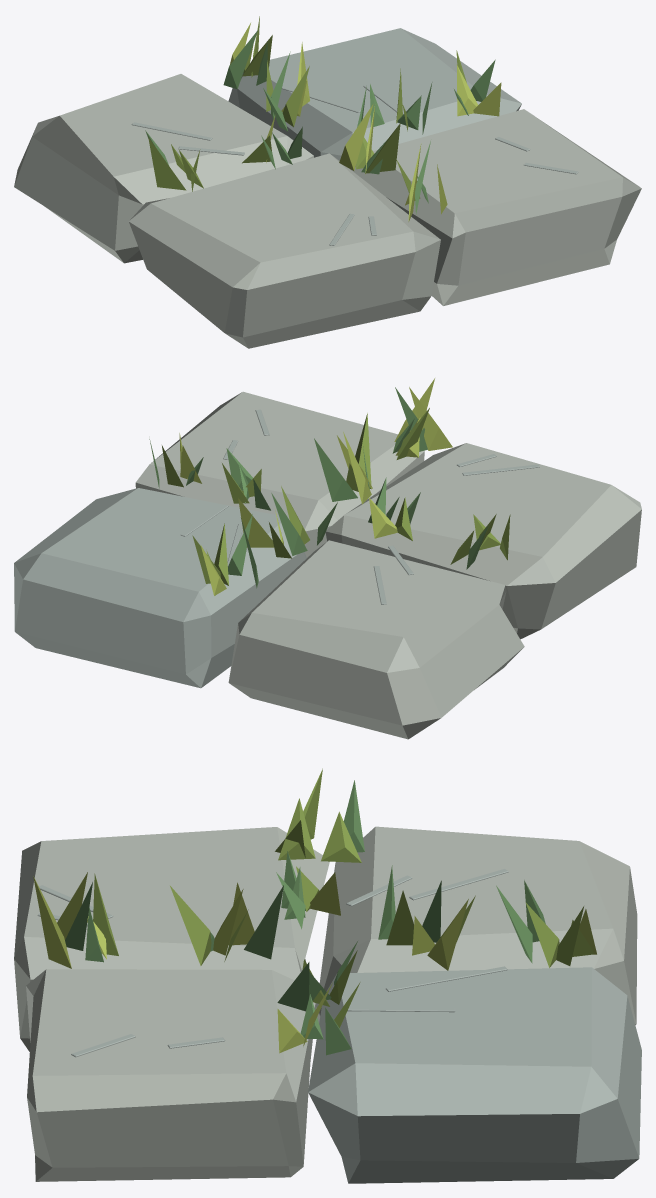
File: slab_grass_dark.glb
The picture shows the model from 3 angles, top to bottom: view 1: azimuth 30°, elevation 25°; view 2: azimuth 150°, elevation 25°; view 3: azimuth 270°, elevation 25°; orthographic projection. The views are drawn at different scales.
Parts seen in each view (by area): view 1: slab_grass_dark; view 2: slab_grass_dark; view 3: slab_grass_dark.
Boxes of the visible parts, bbox=[...] form: slab_grass_dark: bbox=[14, 16, 641, 348]; slab_grass_dark: bbox=[14, 378, 641, 739]; slab_grass_dark: bbox=[14, 768, 641, 1183].
Size of the model in its own units: 1.04 by 0.3516 by 1.
